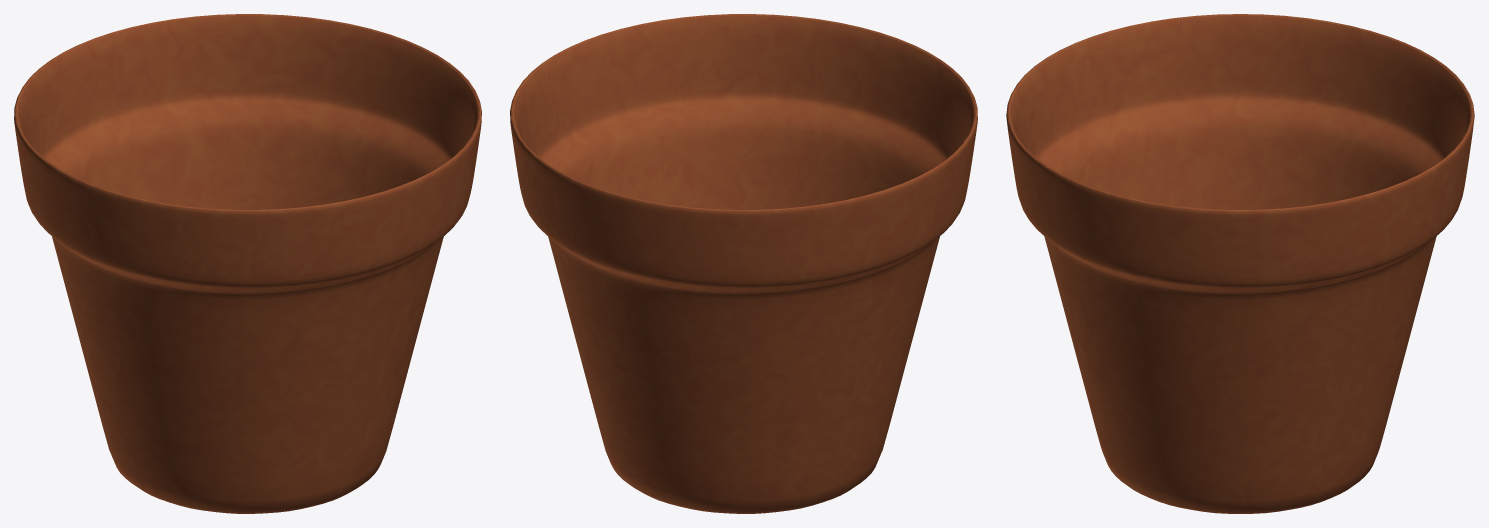
Rendered from flower_pot.glb.
The picture shows the model from 3 angles, left to right: view 1: azimuth 30°, elevation 25°; view 2: azimuth 150°, elevation 25°; view 3: azimuth 270°, elevation 25°; orthographic projection.
Parts seen in each view (by area): view 1: Plane_0; view 2: Plane_0; view 3: Plane_0.
Boxes of the visible parts, left/top/right/bottom form: Plane_0: left=14, top=14, right=481, bottom=513; Plane_0: left=510, top=14, right=977, bottom=513; Plane_0: left=1006, top=14, right=1474, bottom=513.
Bounding box in the file's own units: 0.1996 × 0.1643 × 0.1996.
1 material, 1 textured.
